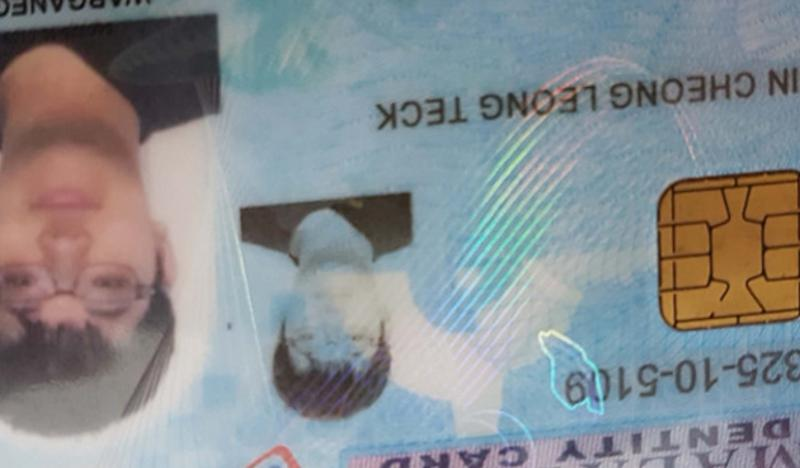hologram: (429, 125, 602, 329)
